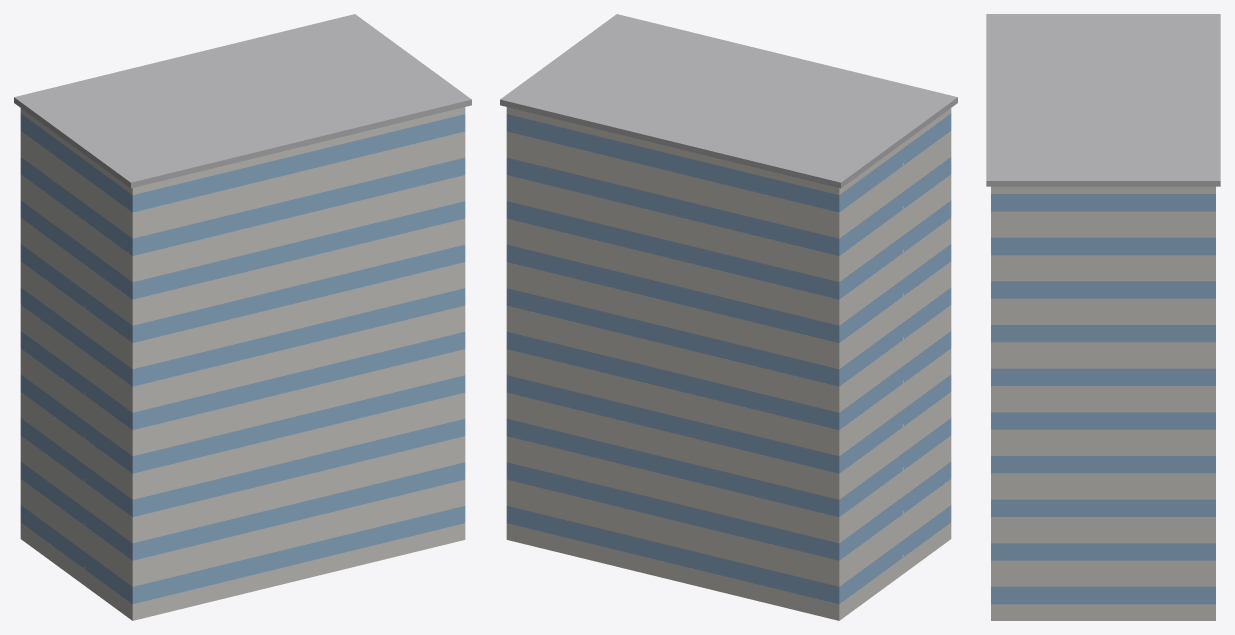
File: tower-b.glb
3 renders of one model, left to right at view 1: azimuth 30°, elevation 25°; view 2: azimuth 150°, elevation 25°; view 3: azimuth 270°, elevation 25°, orthographic.
Visible parts, largest first — view 1: FacadeS (×30), FacadeW (×30), Roof, Slab (×10); view 2: FacadeN (×30), FacadeW (×30), Roof, Slab (×10); view 3: FacadeE (×30), Roof, Slab (×10).
Part boxes in pixels (x1,y1,x2,y2): FacadeS (×30): (130,107,465,617); FacadeW (×30): (23,110,130,615); Roof: (14,14,471,188); Slab (×10): (20,144,465,620); FacadeN (×30): (506,107,841,617); FacadeW (×30): (841,110,948,615); Roof: (500,14,957,188); Slab (×10): (506,144,951,620); FacadeE (×30): (996,186,1210,617); Roof: (986,14,1220,186); Slab (×10): (991,224,1215,620).
Size of the model in its own units: 24.6 by 30.4 by 14.6.
